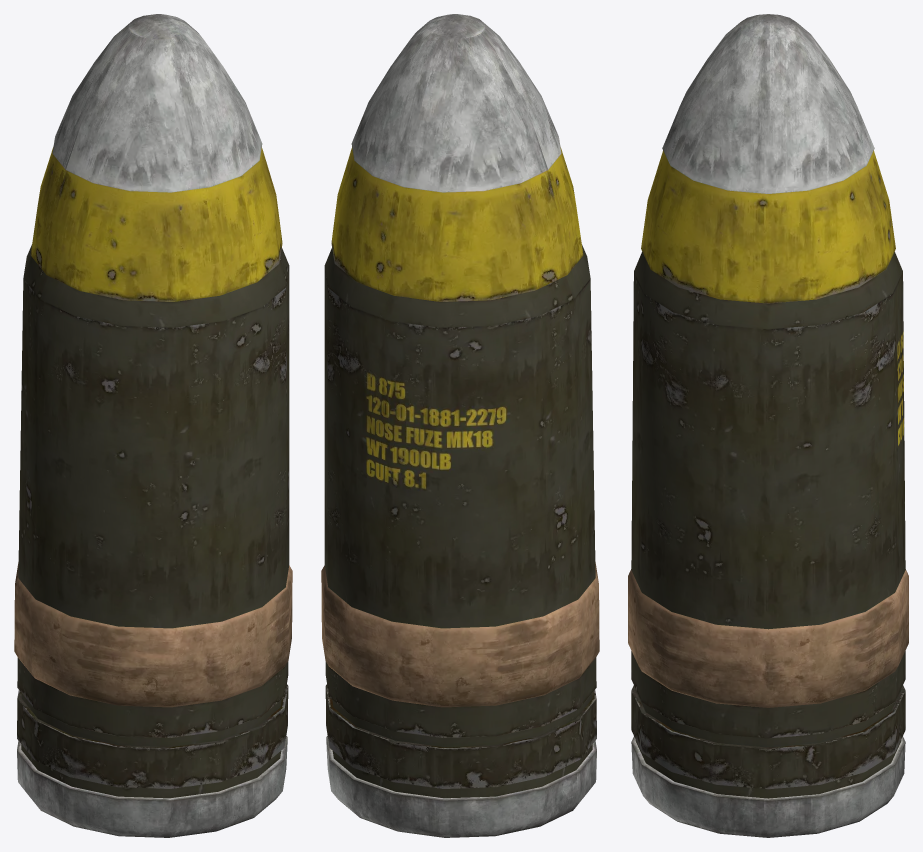
The model's file is shell.glb.
3 renders of one model, left to right at view 1: azimuth 30°, elevation 25°; view 2: azimuth 150°, elevation 25°; view 3: azimuth 270°, elevation 25°, orthographic.
Parts seen in each view (by area): view 1: BOMB_1_INSTANCE_DA_BOMB_0; view 2: BOMB_1_INSTANCE_DA_BOMB_0; view 3: BOMB_1_INSTANCE_DA_BOMB_0.
Part boxes in pixels (box(x1,y1,x2,y2)): BOMB_1_INSTANCE_DA_BOMB_0: box(14, 14, 292, 837); BOMB_1_INSTANCE_DA_BOMB_0: box(321, 14, 599, 837); BOMB_1_INSTANCE_DA_BOMB_0: box(628, 14, 908, 837).
Size of the model in its own units: 0.4944 by 1.49 by 0.4932.
1 material, 1 textured.
